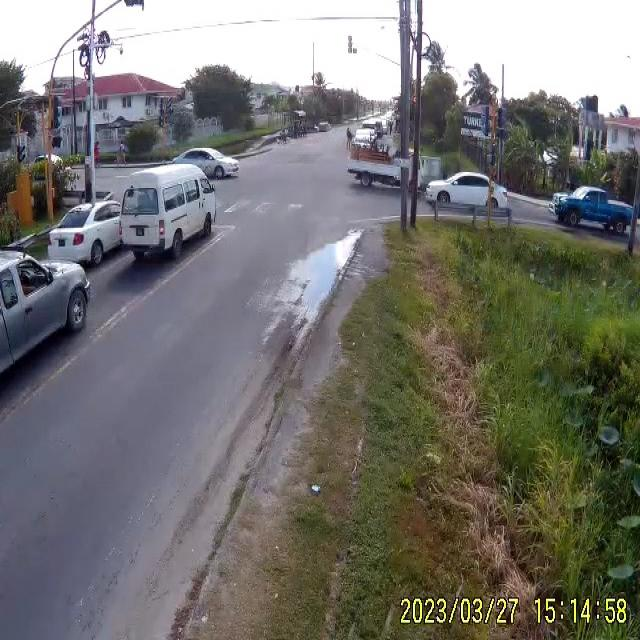car: (1, 245, 92, 440), (119, 165, 215, 262), (45, 201, 122, 270), (555, 189, 633, 234), (424, 172, 509, 211), (170, 148, 239, 179), (315, 122, 329, 134)
truck: (350, 136, 424, 192)
